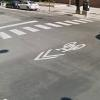Crosswalk: (4, 21, 87, 43)
